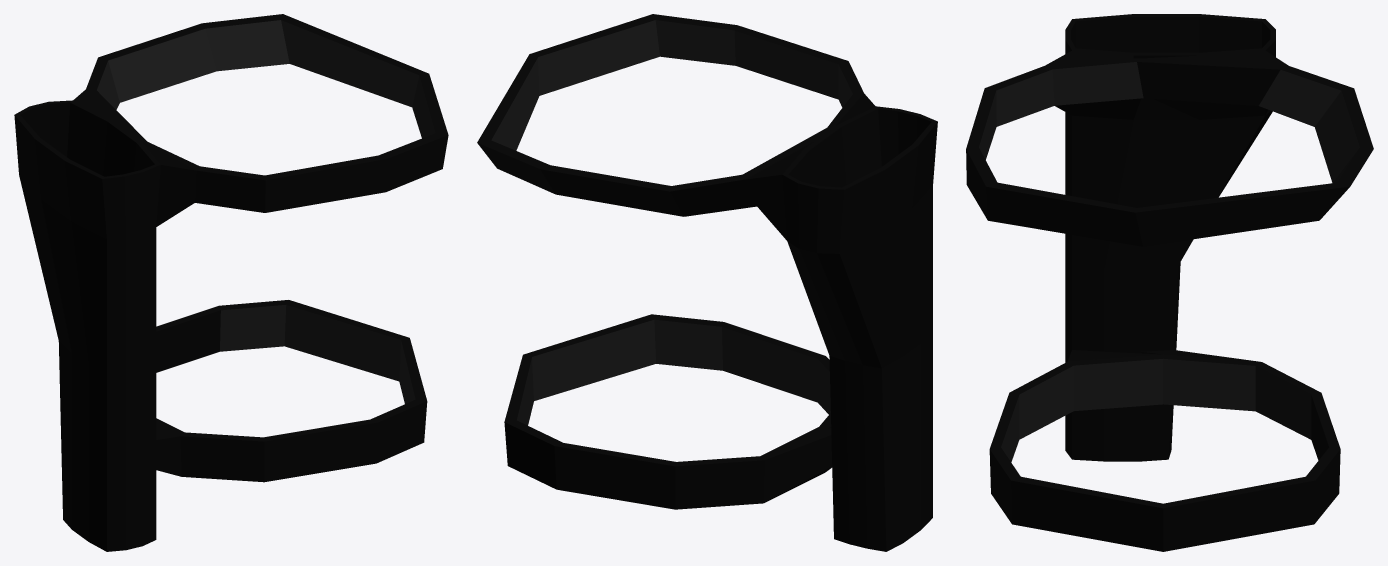
The model's file is Revolver Holster01.fbx.
3 renders of one model, left to right at view 1: azimuth 30°, elevation 25°; view 2: azimuth 150°, elevation 25°; view 3: azimuth 270°, elevation 25°, orthographic. The views are drawn at different scales.
Visible parts, largest first — view 1: Revolver Holster.001; view 2: Revolver Holster.001; view 3: Revolver Holster.001.
Boxes of the visible parts, box(x1,y1,x2,y2) form: Revolver Holster.001: box(14, 14, 448, 551); Revolver Holster.001: box(477, 14, 937, 551); Revolver Holster.001: box(966, 14, 1373, 551).
Bounding box in the file's own units: 0.2532 × 0.2479 × 0.2226.
